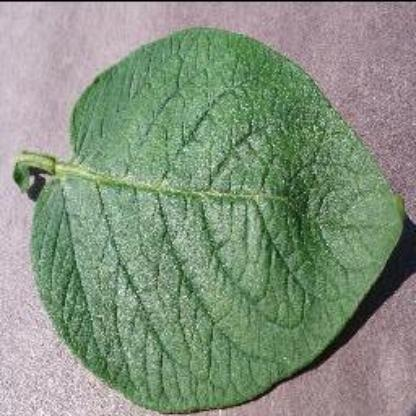Healthy-plant: (12, 20, 404, 414)
